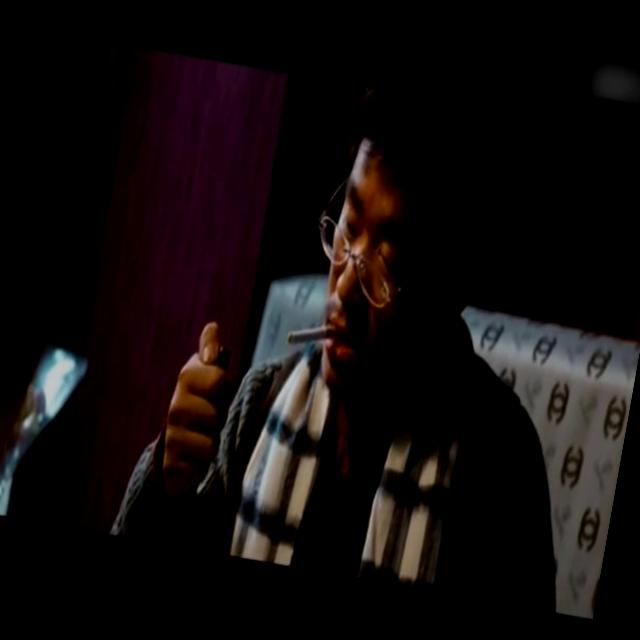smoke: (281, 312, 350, 359)
